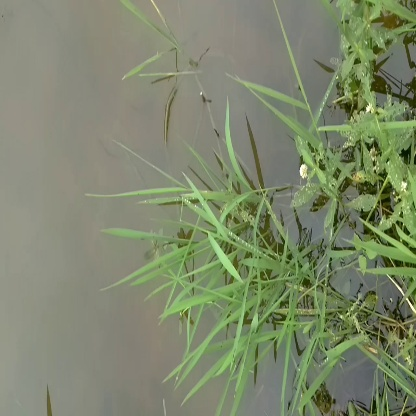grass: (127, 151, 303, 349)
